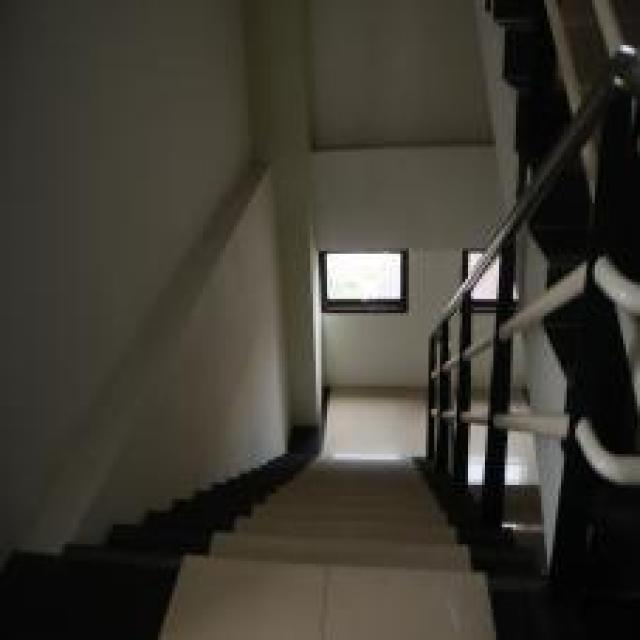downstair: (257, 469, 441, 627)
